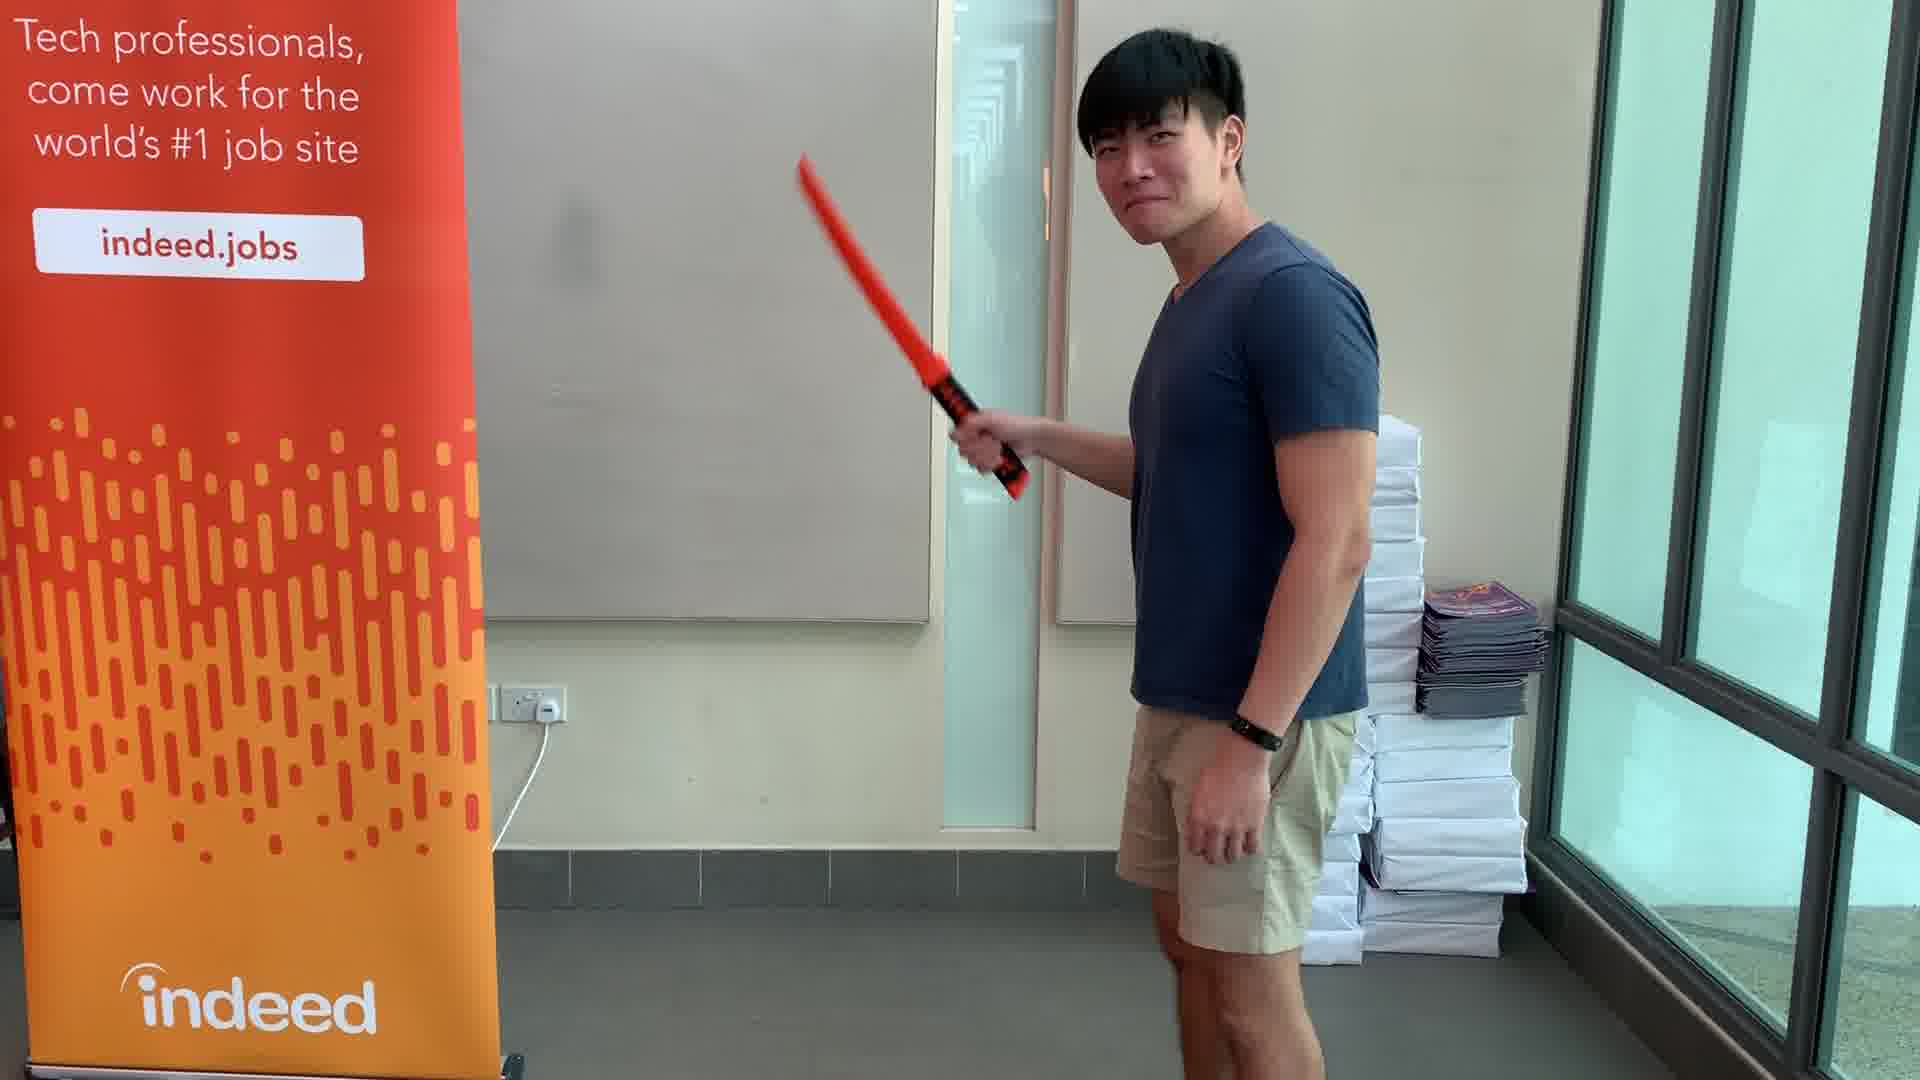knife: (789, 146, 1031, 505)
